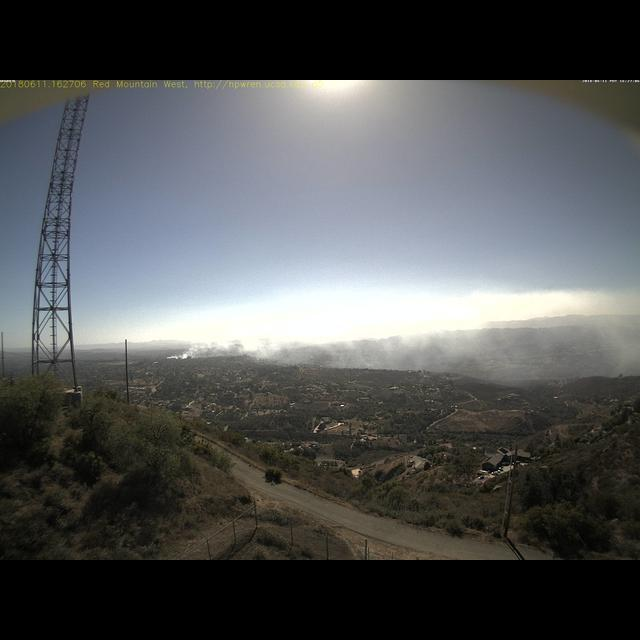Smoke: (164, 320, 509, 372)
